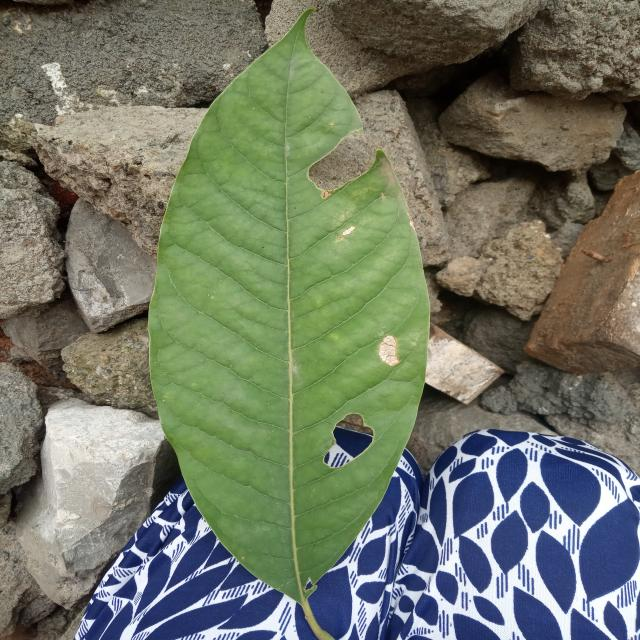coffee: (148, 10, 428, 602)
